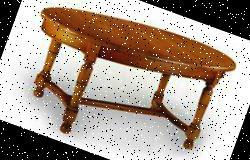Mesa: (7, 0, 238, 159)
